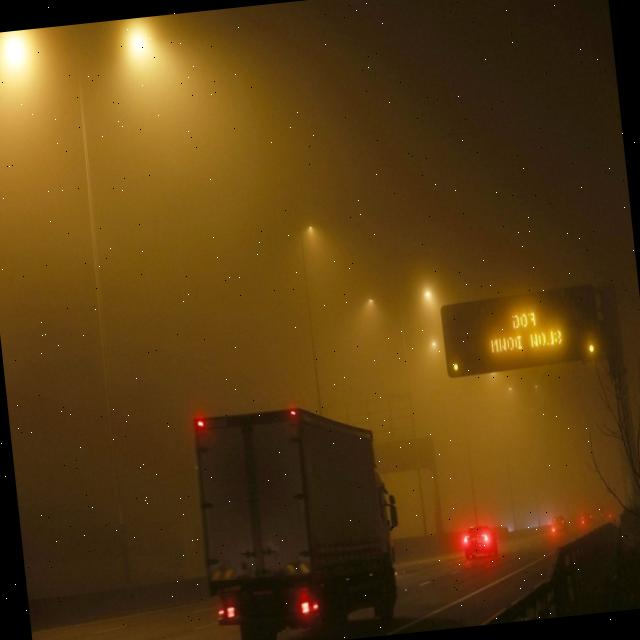bus: (187, 392, 405, 640)
car: (461, 520, 498, 558), (550, 512, 568, 534)
